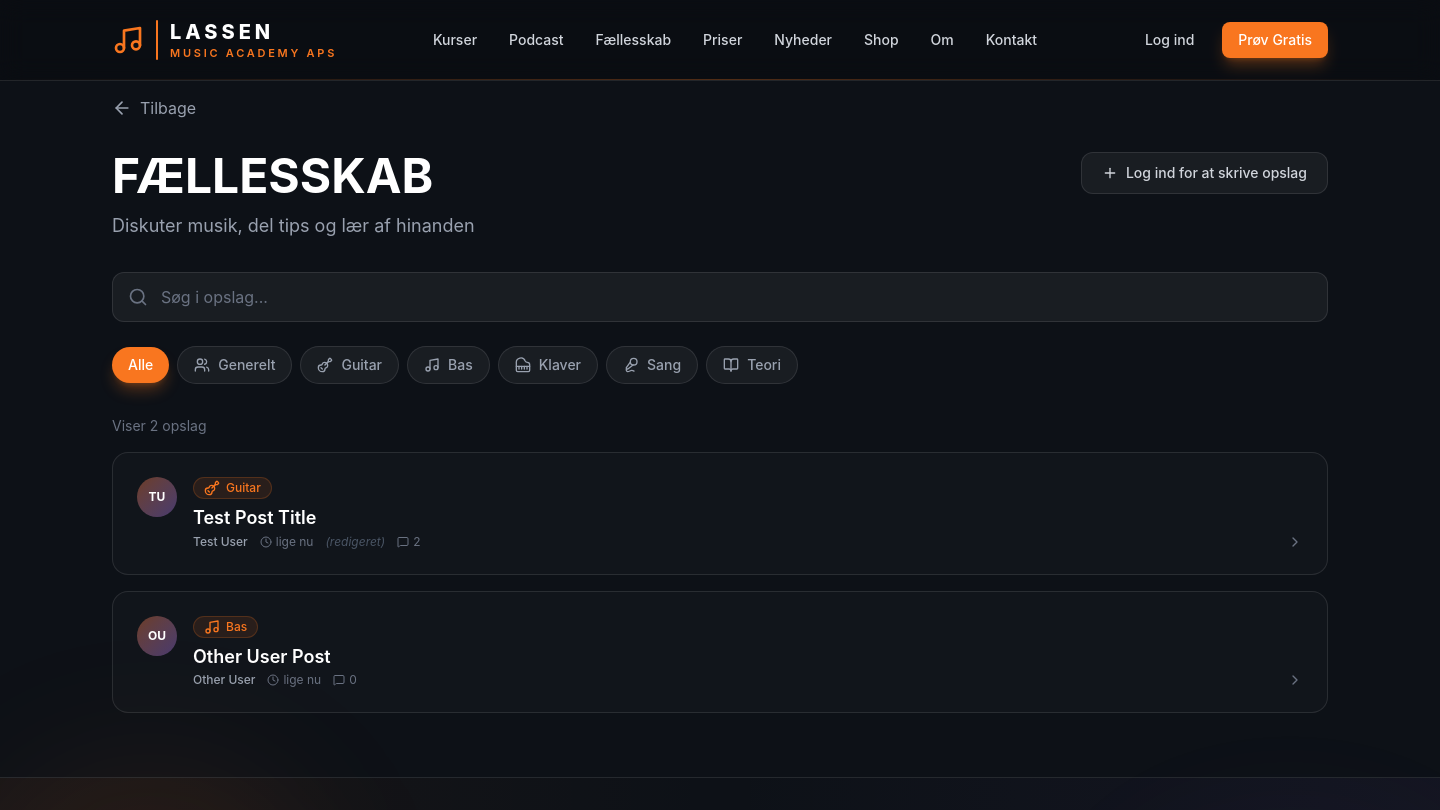
Test: Community Page › Post Expansion › expands post to show body and comments when clicked
Check: the text "Test post body content" is not shown
Step 1. Click the heading "Test Post Title" → click(255, 518), box [193, 507, 316, 528]
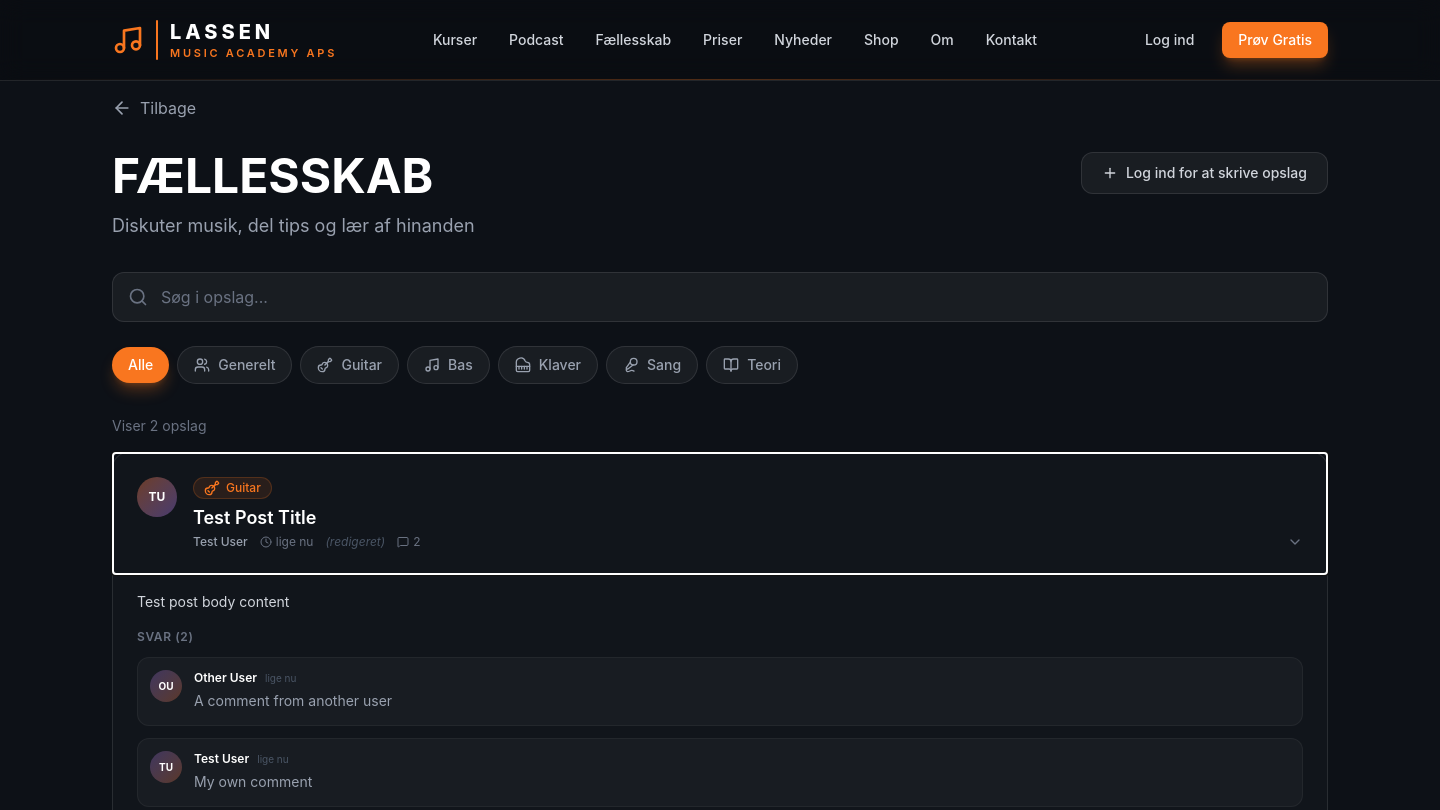
Check: the text "Test post body content" is shown, box [137, 592, 289, 610]
Check: the text "A comment from another user" is shown, box [194, 692, 392, 709]
Check: the text "My own comment" is shown, box [194, 773, 312, 790]
